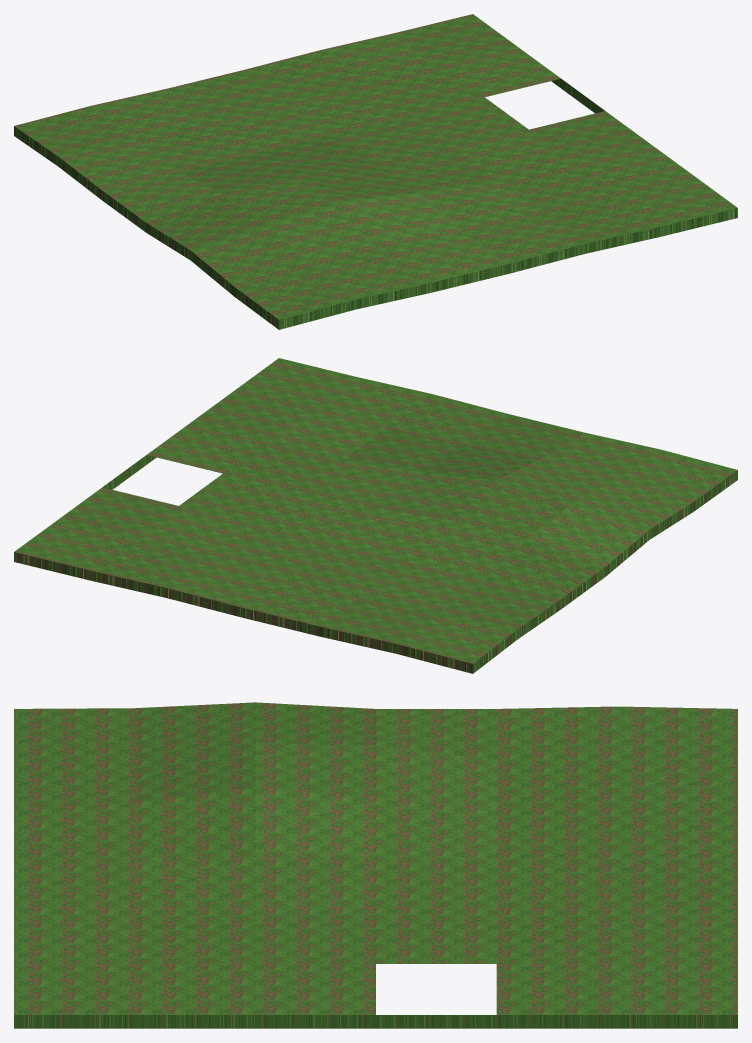
Rendered from rv_terrain_10_lod3.gltf.
The picture shows the model from 3 angles, top to bottom: view 1: azimuth 30°, elevation 25°; view 2: azimuth 150°, elevation 25°; view 3: azimuth 270°, elevation 25°; orthographic projection. The views are drawn at different scales.
Parts seen in each view (by area): view 1: RV_Terrain_10_lod3; view 2: RV_Terrain_10_lod3; view 3: RV_Terrain_10_lod3.
Boxes of the visible parts, bbox=[...] form: RV_Terrain_10_lod3: bbox=[14, 14, 737, 329]; RV_Terrain_10_lod3: bbox=[14, 358, 737, 673]; RV_Terrain_10_lod3: bbox=[14, 702, 737, 1028].
Size of the model in its own units: 72 by 4.03 by 72.
Materials: 2 (1 with a texture image).
